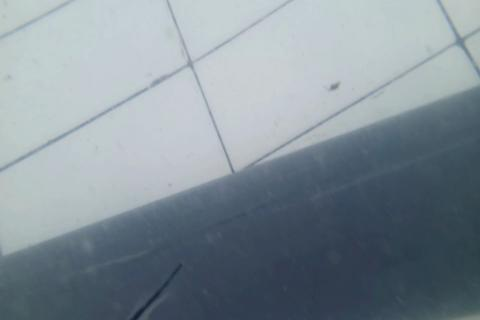keretakan: (129, 260, 183, 319)
